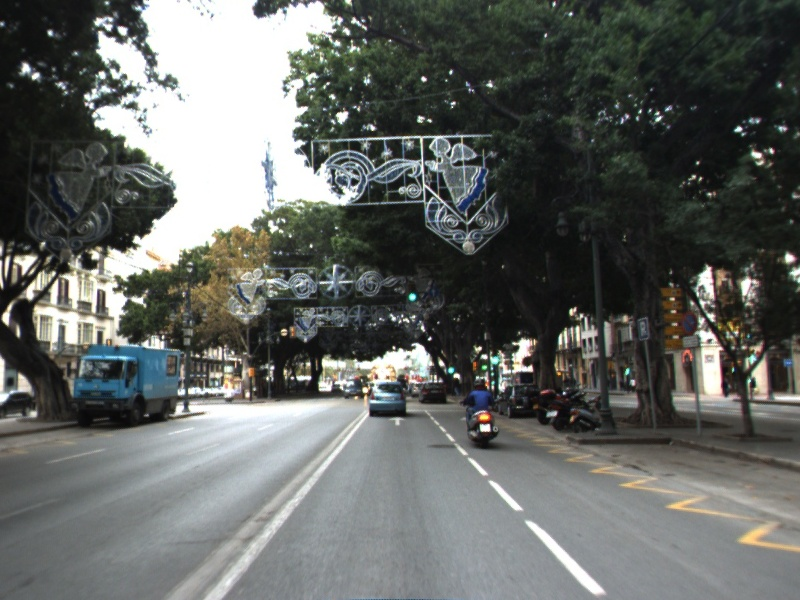STRAIGHT: (386, 414, 409, 427)
